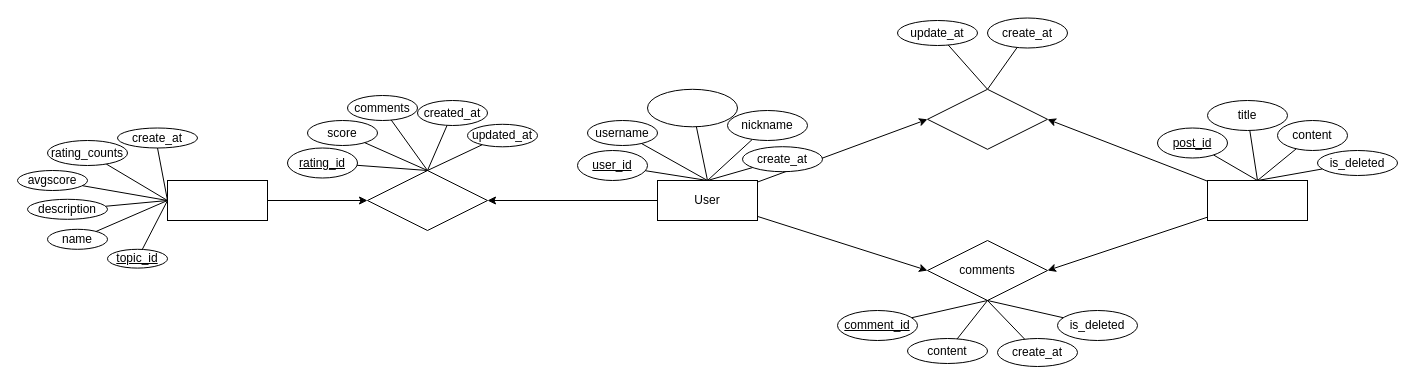
This 1415x384 diagram has some shape labels left out. Each missing label, with the box of its shape:
creates: (926, 88, 1048, 149)
password_hash: (646, 88, 738, 127)
Post: (1206, 180, 1308, 220)
rates: (366, 170, 488, 230)
Topics: (166, 180, 268, 220)
